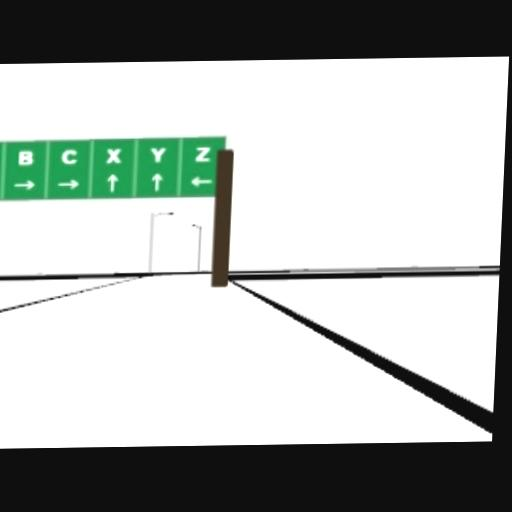B: (17, 148, 33, 163)
C: (61, 147, 77, 162)
Left: (190, 174, 212, 186)
Right: (11, 178, 37, 189), (57, 178, 81, 188)
Straight: (105, 172, 118, 191), (150, 171, 163, 190)
X: (105, 147, 121, 162)
Y: (148, 146, 166, 161)
Z: (194, 145, 212, 161)
